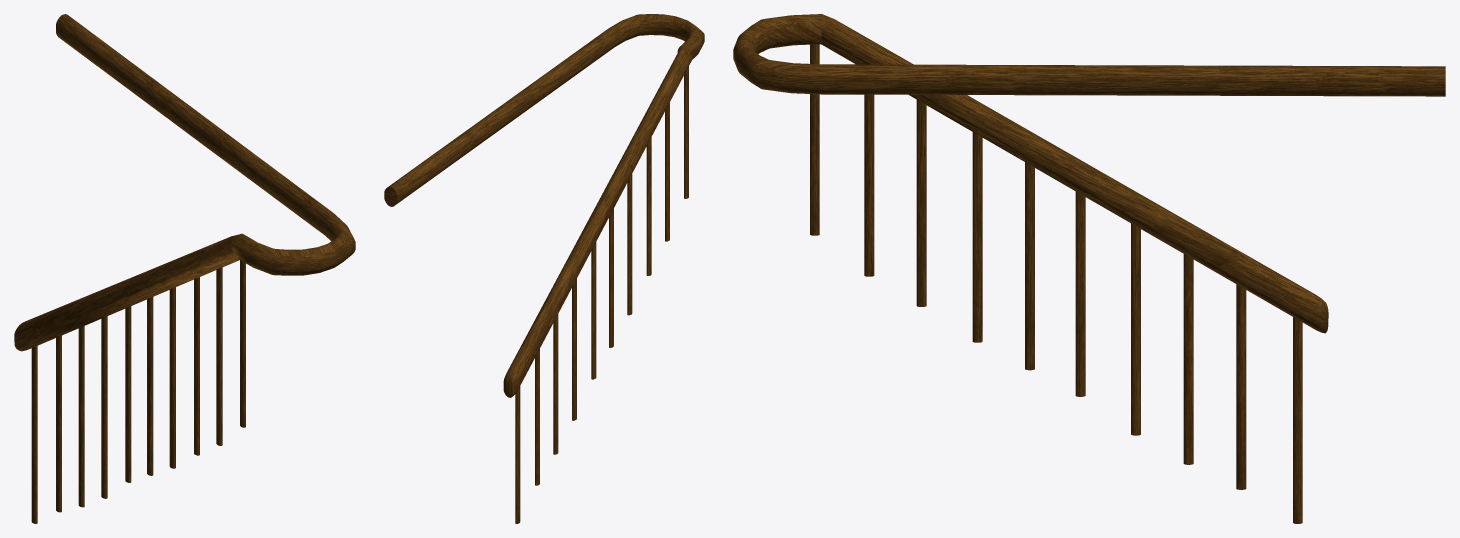
The model's file is BanisterIncompletev2.FBX.
3 renders of one model, left to right at view 1: azimuth 30°, elevation 25°; view 2: azimuth 150°, elevation 25°; view 3: azimuth 270°, elevation 25°, orthographic. The views are drawn at different scales.
Visible parts, largest first — view 1: Box116, Cylinder004, Cylinder003, Cylinder007, Cylinder006, Cylinder009, Cylinder001, Cylinder005, Cylinder008, Cylinder002, Cylinder010; view 2: Box116, Cylinder007, Cylinder003, Cylinder008, Cylinder001, Cylinder005, Cylinder004, Cylinder006, Cylinder009, Cylinder002, Cylinder010; view 3: Box116, Cylinder007, Cylinder003, Cylinder008, Cylinder005, Cylinder002, Cylinder004, Cylinder006, Cylinder001, Cylinder009, Cylinder010.
Boxes of the visible parts, x1=… form: Box116: x1=14, y1=14, x2=355, y2=351; Cylinder004: x1=101, y1=316, x2=107, y2=498; Cylinder003: x1=78, y1=326, x2=84, y2=507; Cylinder007: x1=169, y1=287, x2=175, y2=468; Cylinder006: x1=147, y1=297, x2=153, y2=475; Cylinder009: x1=216, y1=267, x2=222, y2=445; Cylinder001: x1=31, y1=346, x2=37, y2=523; Cylinder005: x1=125, y1=306, x2=131, y2=482; Cylinder008: x1=194, y1=277, x2=199, y2=455; Cylinder002: x1=56, y1=335, x2=61, y2=512; Cylinder010: x1=240, y1=260, x2=245, y2=427; Box116: x1=384, y1=14, x2=704, y2=397; Cylinder007: x1=627, y1=174, x2=632, y2=315; Cylinder003: x1=553, y1=314, x2=558, y2=454; Cylinder008: x1=646, y1=137, x2=651, y2=275; Cylinder001: x1=515, y1=386, x2=520, y2=523; Cylinder005: x1=591, y1=242, x2=596, y2=379; Cylinder004: x1=572, y1=279, x2=576, y2=420; Cylinder006: x1=609, y1=208, x2=613, y2=347; Cylinder009: x1=665, y1=102, x2=669, y2=241; Cylinder002: x1=535, y1=349, x2=539, y2=485; Cylinder010: x1=684, y1=66, x2=688, y2=198; Box116: x1=733, y1=14, x2=1445, y2=333; Cylinder007: x1=972, y1=132, x2=982, y2=342; Cylinder003: x1=1183, y1=254, x2=1193, y2=464; Cylinder008: x1=916, y1=99, x2=926, y2=306; Cylinder005: x1=1075, y1=191, x2=1085, y2=396; Cylinder002: x1=1236, y1=284, x2=1246, y2=489; Cylinder004: x1=1131, y1=223, x2=1140, y2=435; Cylinder006: x1=1025, y1=162, x2=1034, y2=370; Cylinder001: x1=1293, y1=317, x2=1302, y2=523; Cylinder009: x1=864, y1=94, x2=874, y2=276; Cylinder010: x1=810, y1=44, x2=819, y2=235.
Bounding box in the file's own units: 9.33 × 35.37 × 44.93.
Materials: 1 (1 with a texture image).
